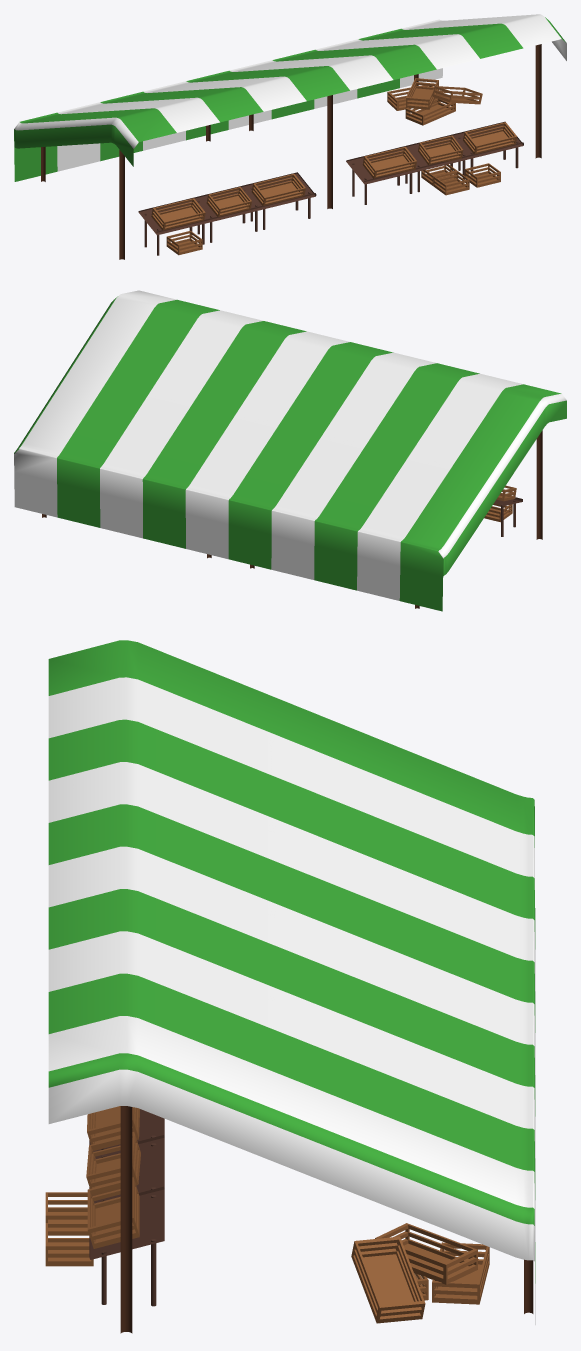
Rendered from stand_v_2.fbx.
3 views of the same model, one above another, from view 1: azimuth 30°, elevation 25°; view 2: azimuth 150°, elevation 25°; view 3: azimuth 270°, elevation 25° (orthographic). The views are drawn at different scales.
Parts seen in each view (by area): view 1: StandeV2; view 2: StandeV2; view 3: StandeV2.
Boxes of the visible parts, box(x1,y1,x2,y2) form: StandeV2: box(14, 14, 566, 259); StandeV2: box(14, 290, 566, 611); StandeV2: box(45, 640, 535, 1333).
Size of the model in its own units: 2512 by 793 by 1227.
